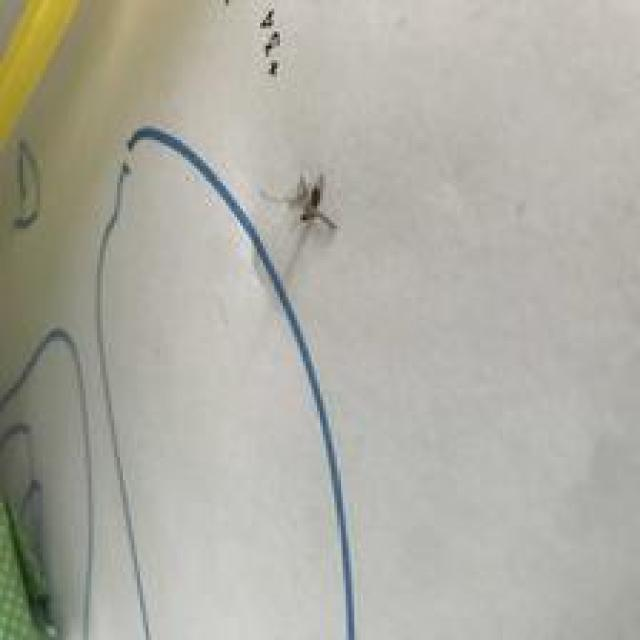Culex: (258, 170, 338, 233)
